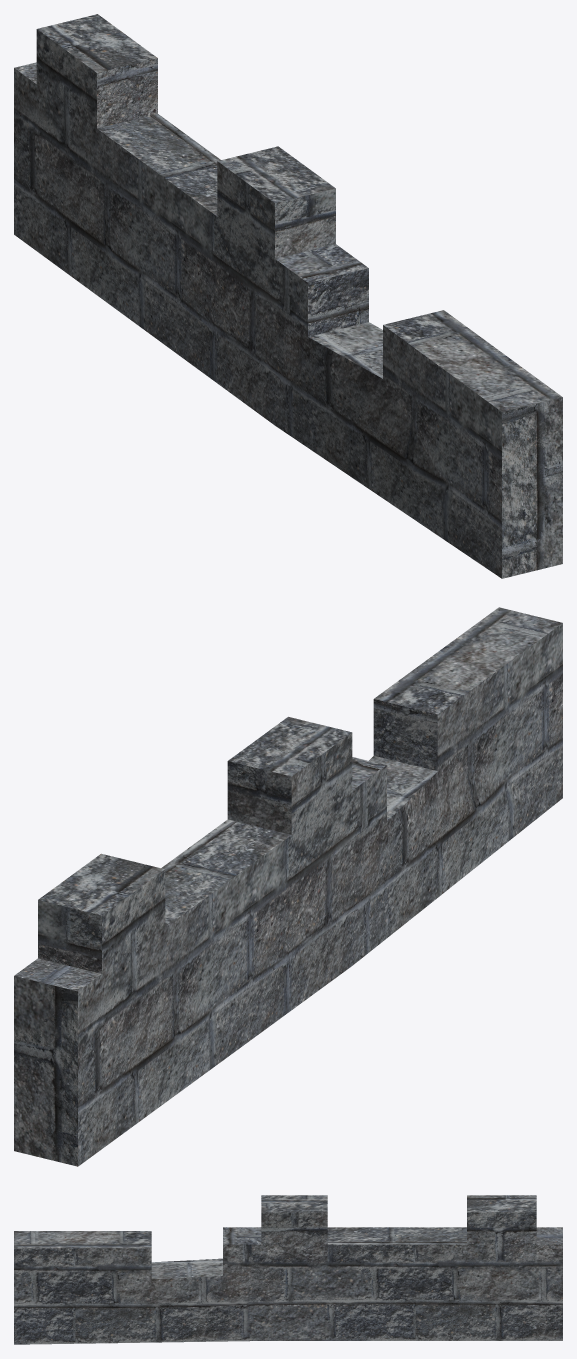
The model's file is StoneWallA_CLOD.fbx.
3 renders of one model, top to bottom at view 1: azimuth 30°, elevation 25°; view 2: azimuth 150°, elevation 25°; view 3: azimuth 270°, elevation 25°, orthographic. The views are drawn at different scales.
Visible parts, largest first — view 1: StoneWallA_CLOD; view 2: StoneWallA_CLOD; view 3: StoneWallA_CLOD.
Part boxes in pixels (x1,y1,x2,y2): StoneWallA_CLOD: [14, 14, 562, 578]; StoneWallA_CLOD: [14, 607, 562, 1166]; StoneWallA_CLOD: [14, 1195, 562, 1344].
Bounding box in the file's own units: 53.11 × 152 × 589.
